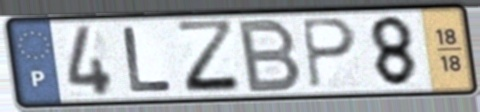4: (63, 22, 116, 99)
8: (366, 13, 420, 90)
B: (237, 16, 306, 95)
L: (119, 24, 177, 95)
P: (298, 16, 360, 92)
Z: (173, 17, 247, 96)
